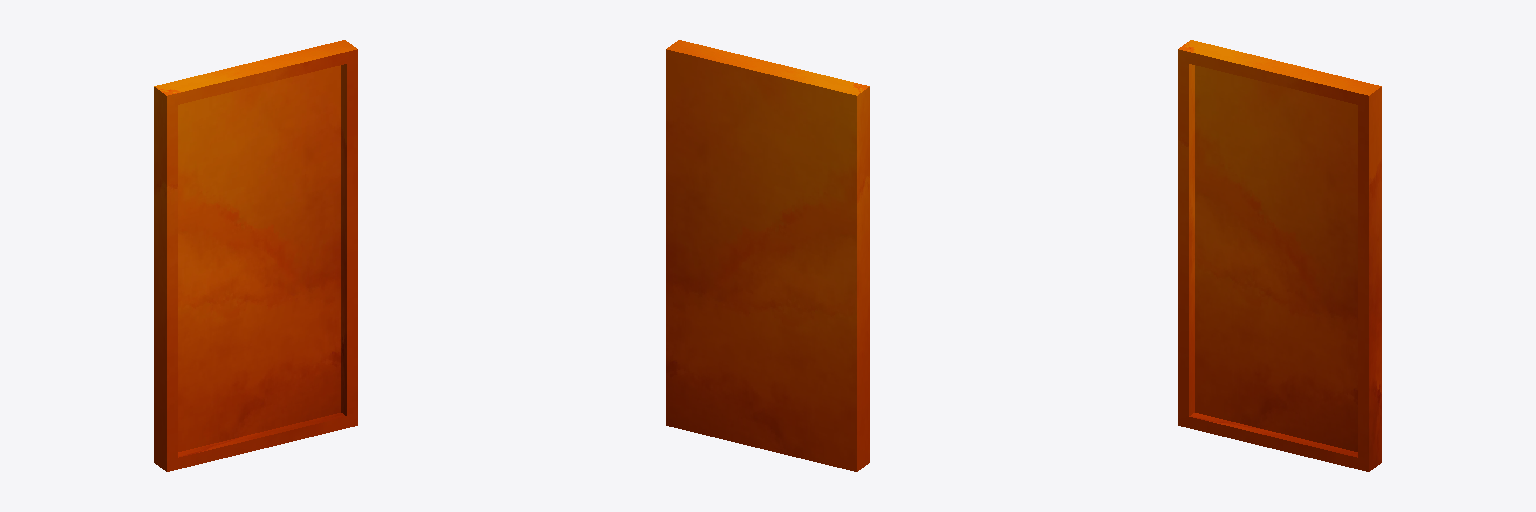
The picture shows the model from 3 angles: view 1: azimuth 30°, elevation 25°; view 2: azimuth 150°, elevation 25°; view 3: azimuth 330°, elevation 25°; orthographic projection.
Parts seen in each view (by area): view 1: Cube_Cube.003; view 2: Cube_Cube.003; view 3: Cube_Cube.003.
Boxes of the visible parts, <box> form: Cube_Cube.003: <box>154,40,357,471</box>; Cube_Cube.003: <box>666,40,869,471</box>; Cube_Cube.003: <box>1178,40,1381,471</box>.
Size of the model in its own units: 3.4 by 6.4 by 0.4.
1 materials, 1 textured.